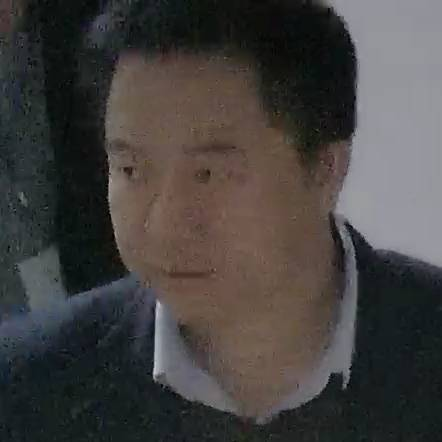cb: (66, 36, 372, 342)
